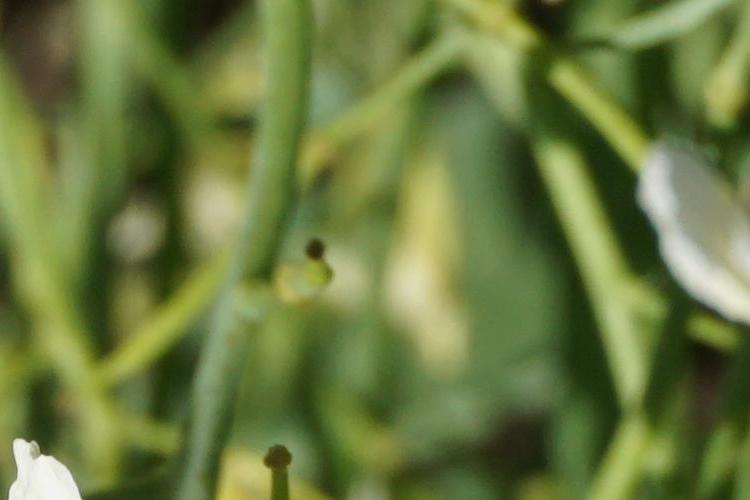pod: (186, 219, 364, 346), (240, 435, 313, 500)
white: (623, 127, 749, 322), (10, 428, 85, 500)
